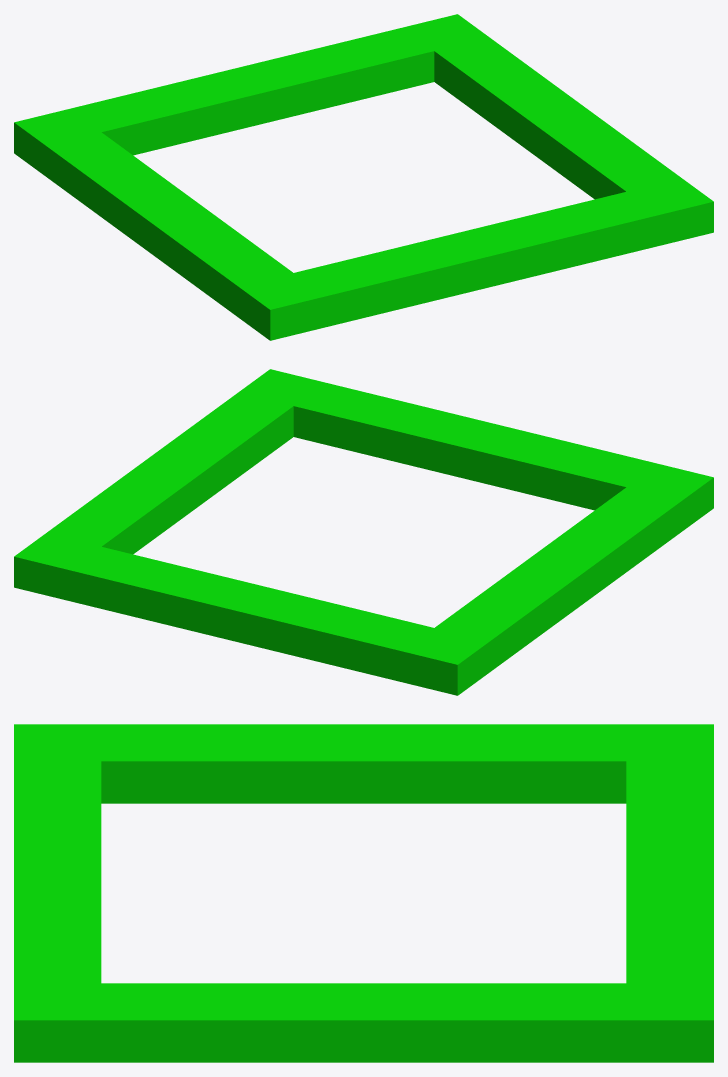
File: selectableZone.fbx
3 views of the same model, one above another, from view 1: azimuth 30°, elevation 25°; view 2: azimuth 150°, elevation 25°; view 3: azimuth 270°, elevation 25° (orthographic). The views are drawn at different scales.
Parts seen in each view (by area): view 1: selectableZone; view 2: selectableZone; view 3: selectableZone.
Boxes of the visible parts, x1,y1,x2,y2 form: selectableZone: (14, 14, 713, 340); selectableZone: (14, 369, 713, 695); selectableZone: (14, 724, 713, 1062).
Bounding box in the file's own units: 15 × 1 × 15.
